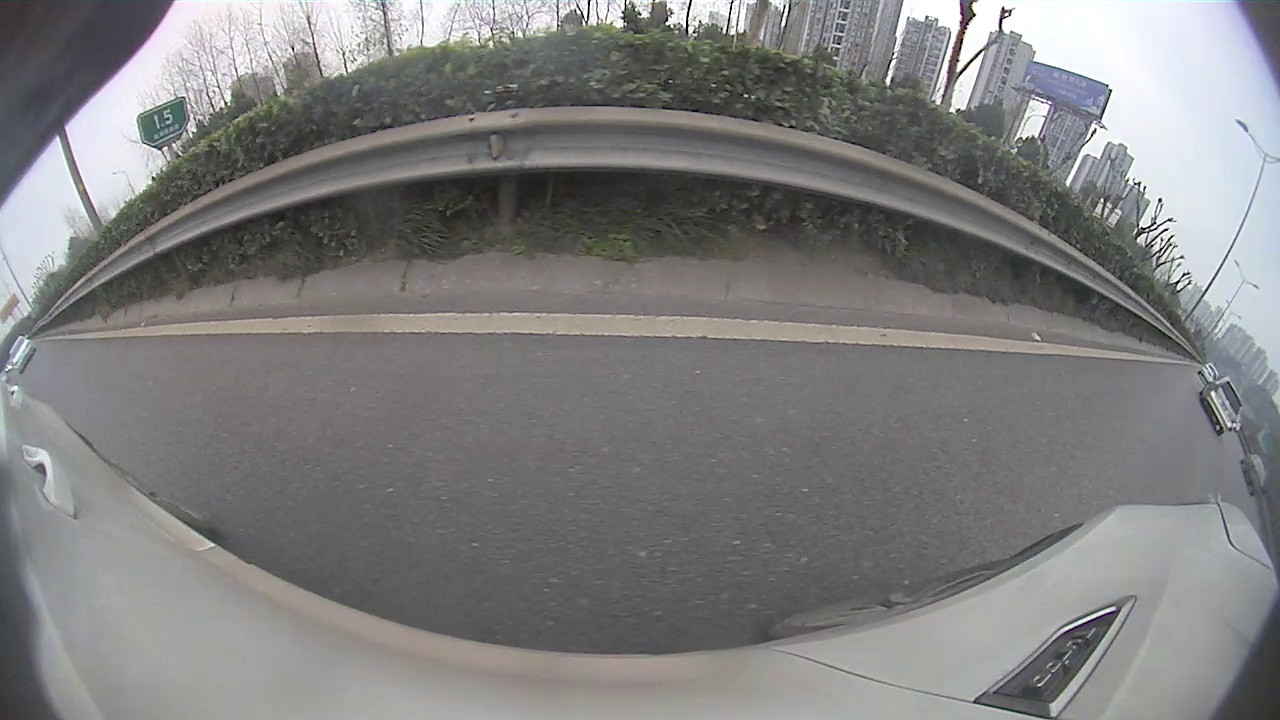car: (1200, 374, 1243, 431), (1239, 452, 1265, 493), (8, 336, 37, 371)
